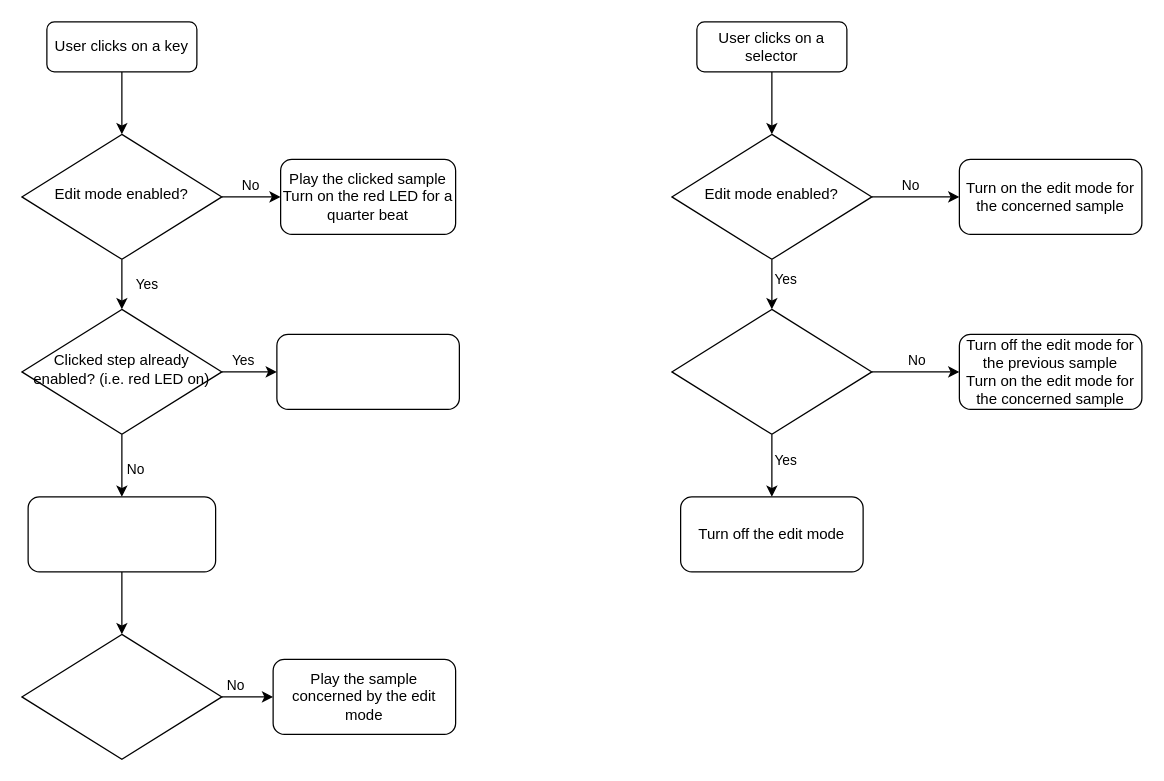
Some shapes in this 1164 by 781 pixel diagram are drawn without their labels. Here are the shapes that lost their labels. From the top down, the centre of each, then its label:
pixel 367 371: Disable the clicked step Turn off the red LED
pixel 771 371: For the same sample?
pixel 121 534: Enable the clicked step Turn on the red LED
pixel 121 696: Is the sequence playing?
